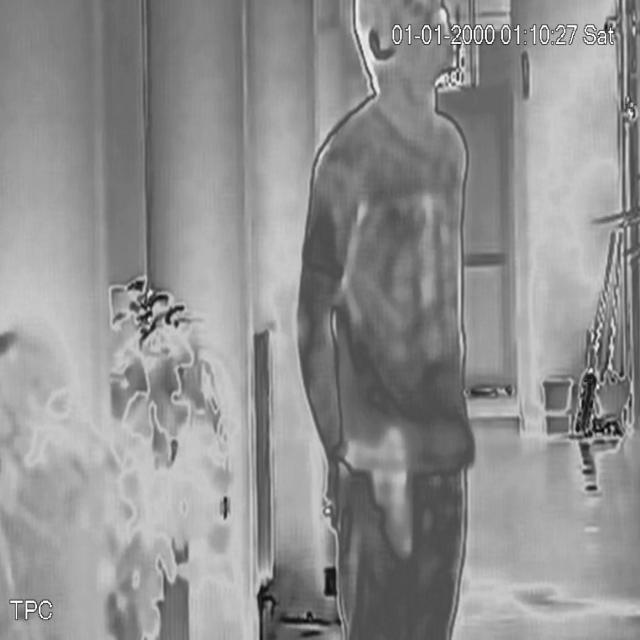Weapon: (340, 414, 437, 578)
